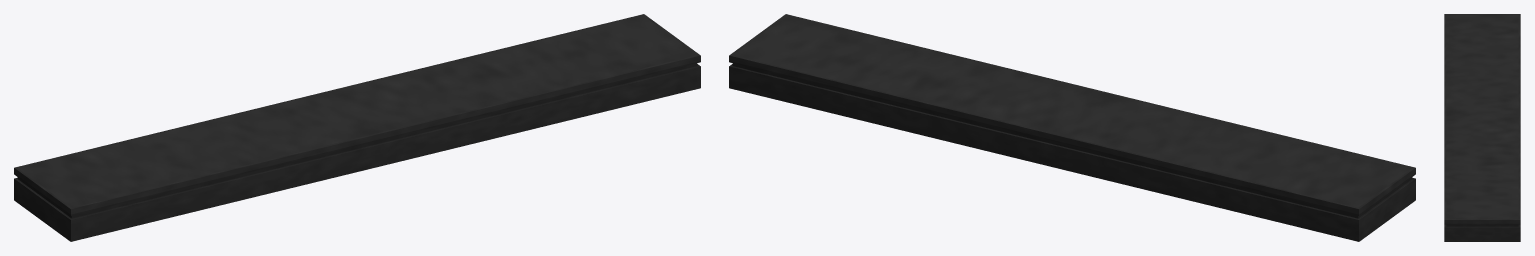
Rendered from Wall_Bottom.FBX.
The picture shows the model from 3 angles, left to right: view 1: azimuth 30°, elevation 25°; view 2: azimuth 150°, elevation 25°; view 3: azimuth 270°, elevation 25°; orthographic projection. The views are drawn at different scales.
Visible parts, largest first — view 1: Wall_Bottom; view 2: Wall_Bottom; view 3: Wall_Bottom.
Boxes of the visible parts, <box> form: Wall_Bottom: <box>14,14,700,241</box>; Wall_Bottom: <box>729,14,1415,241</box>; Wall_Bottom: <box>1444,14,1520,241</box>.
Size of the model in its own units: 201 by 10.01 by 31.41.
